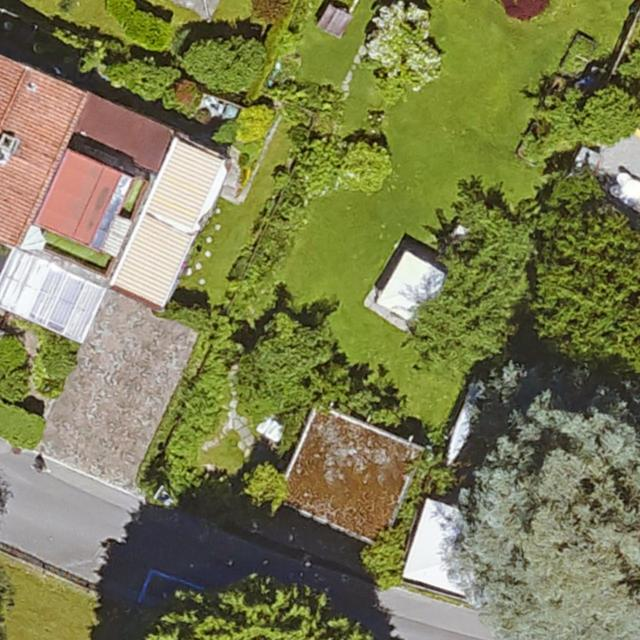tree: (460, 407, 640, 640), (535, 206, 639, 376), (435, 197, 524, 371), (128, 576, 365, 640), (234, 316, 331, 413), (186, 37, 267, 95), (575, 86, 640, 145), (242, 464, 291, 514), (340, 142, 389, 192)
